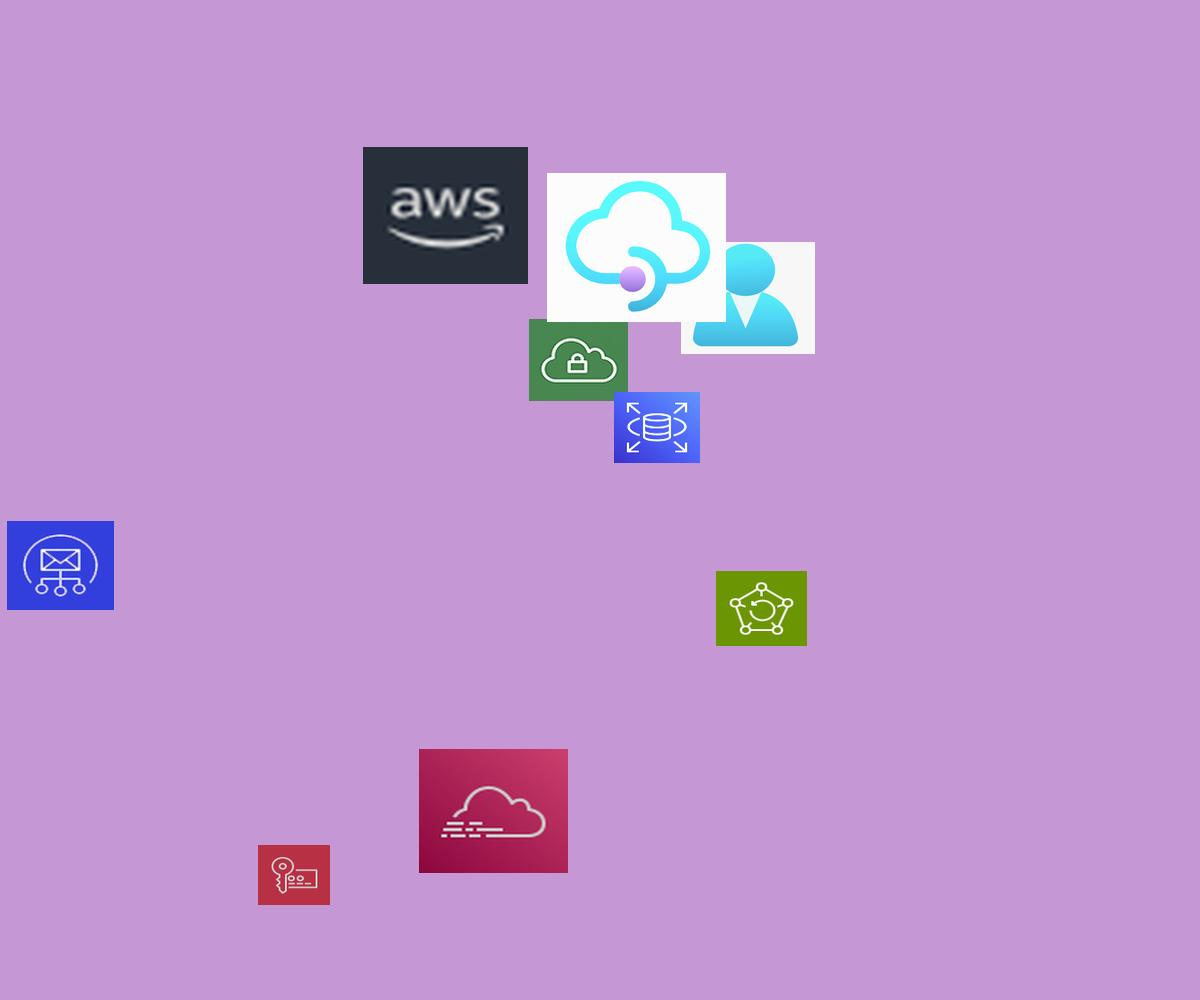AWS-Backup: (716, 571, 807, 646)
AWS-Cloud-logo: (363, 147, 528, 284)
AWS-CloudTrail: (419, 749, 568, 873)
AWS-Key-Management-Service: (258, 845, 330, 905)
AWS-Private_vpc: (529, 319, 628, 401)
AWS-RDS: (614, 392, 700, 463)
AWS-Simple-Email-Service: (7, 521, 114, 610)
Azure_api_gateway: (547, 173, 726, 322)
Azure_users: (681, 242, 815, 354)
